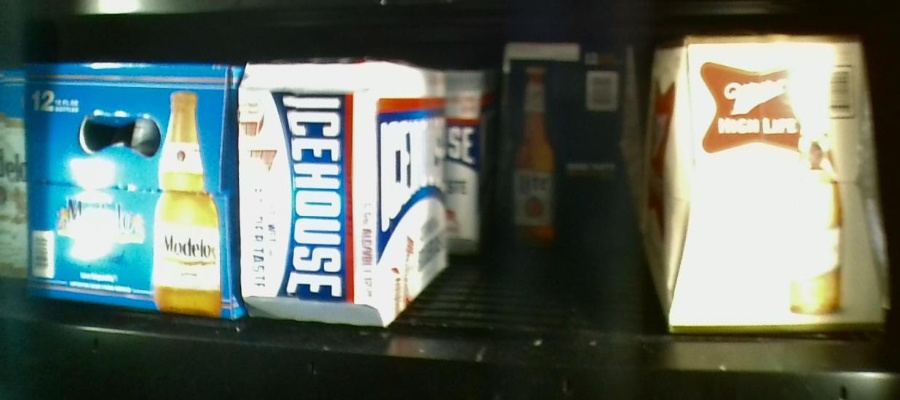bottle: (653, 37, 889, 329), (4, 64, 240, 322), (238, 64, 448, 325), (500, 43, 639, 252)
